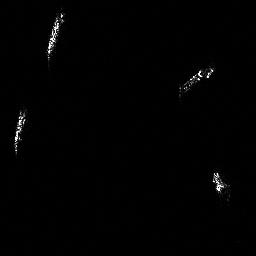ship: (176, 65, 218, 97), (45, 11, 68, 64), (13, 107, 29, 155), (211, 171, 229, 198)
